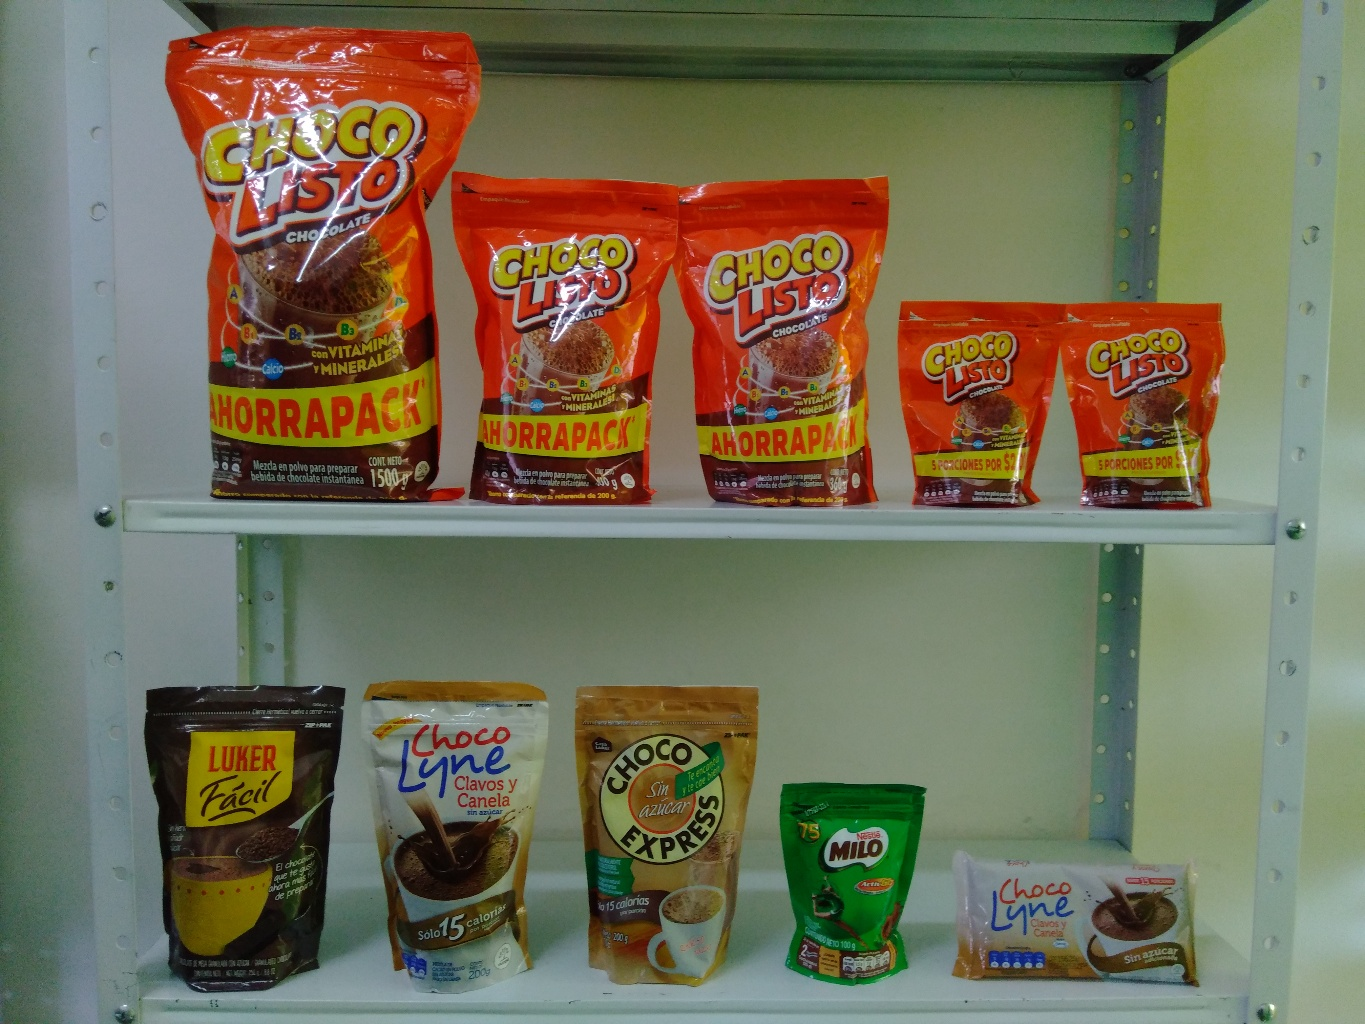COL0170103DYP1,500: (156, 16, 482, 506)
COL0170103DYP10000: (888, 295, 1068, 511)
COL0170103DYP36000: (663, 163, 898, 510)
COL0170103DYP40000: (439, 163, 684, 511)
COL0170203DYP10000: (771, 778, 934, 989)
